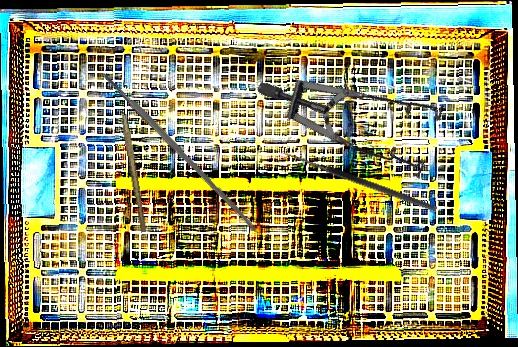Hook Surgical: (277, 149, 438, 220)
Scalpel Handle: (101, 69, 259, 234), (117, 114, 150, 233)
Speculum: (253, 0, 470, 222)
